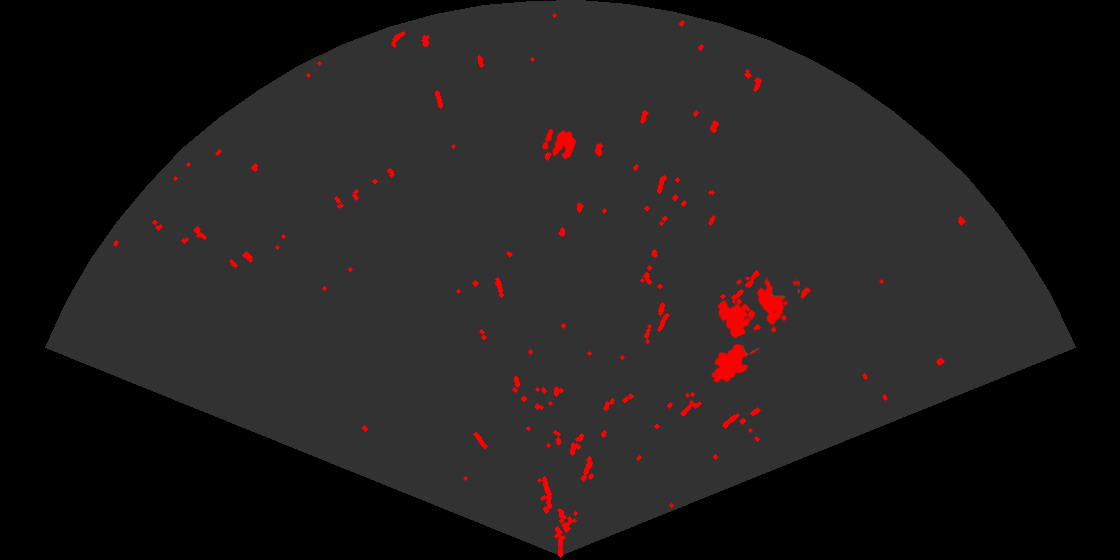AUV: (709, 342, 761, 384)
ball: (541, 127, 578, 161)
cage: (715, 277, 800, 340)
